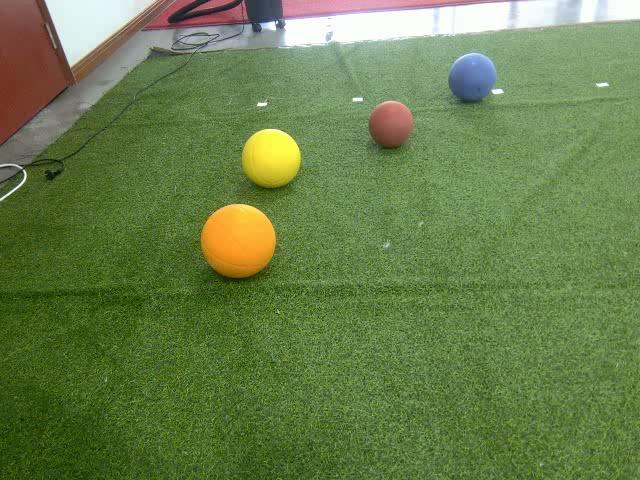blue_ball: (444, 52, 498, 102)
orange_ball: (198, 204, 278, 280)
red_ball: (367, 100, 413, 149)
yellow_ball: (239, 129, 302, 192)
